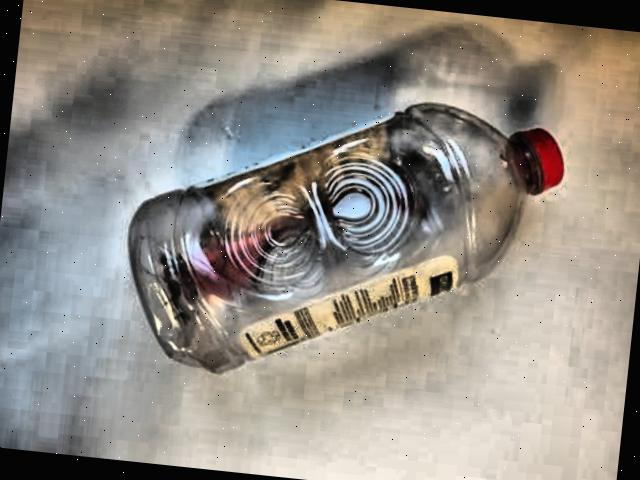Bottles: (105, 16, 590, 416)
